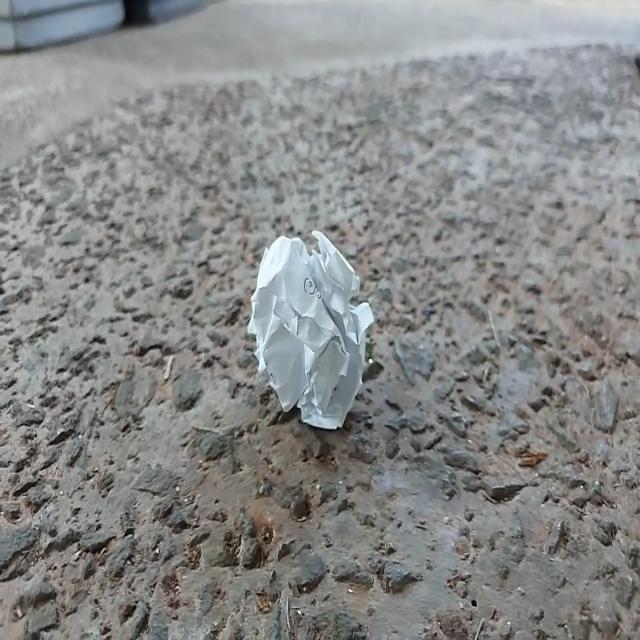Paper: (226, 209, 380, 444)
